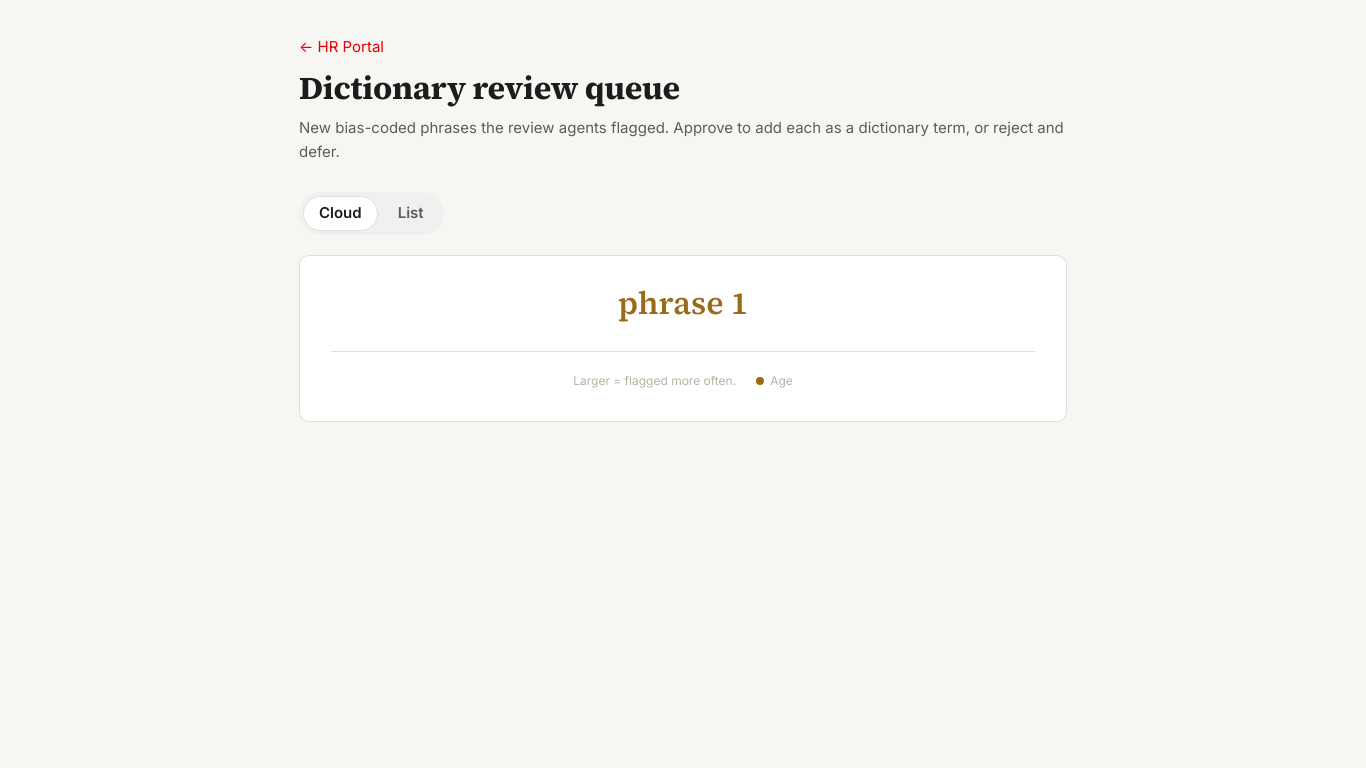
Test: HrDictionaryReview › opens the review modal from a row in the list view
Click the button "List". click: [411, 214]
box: [382,196,440,231]
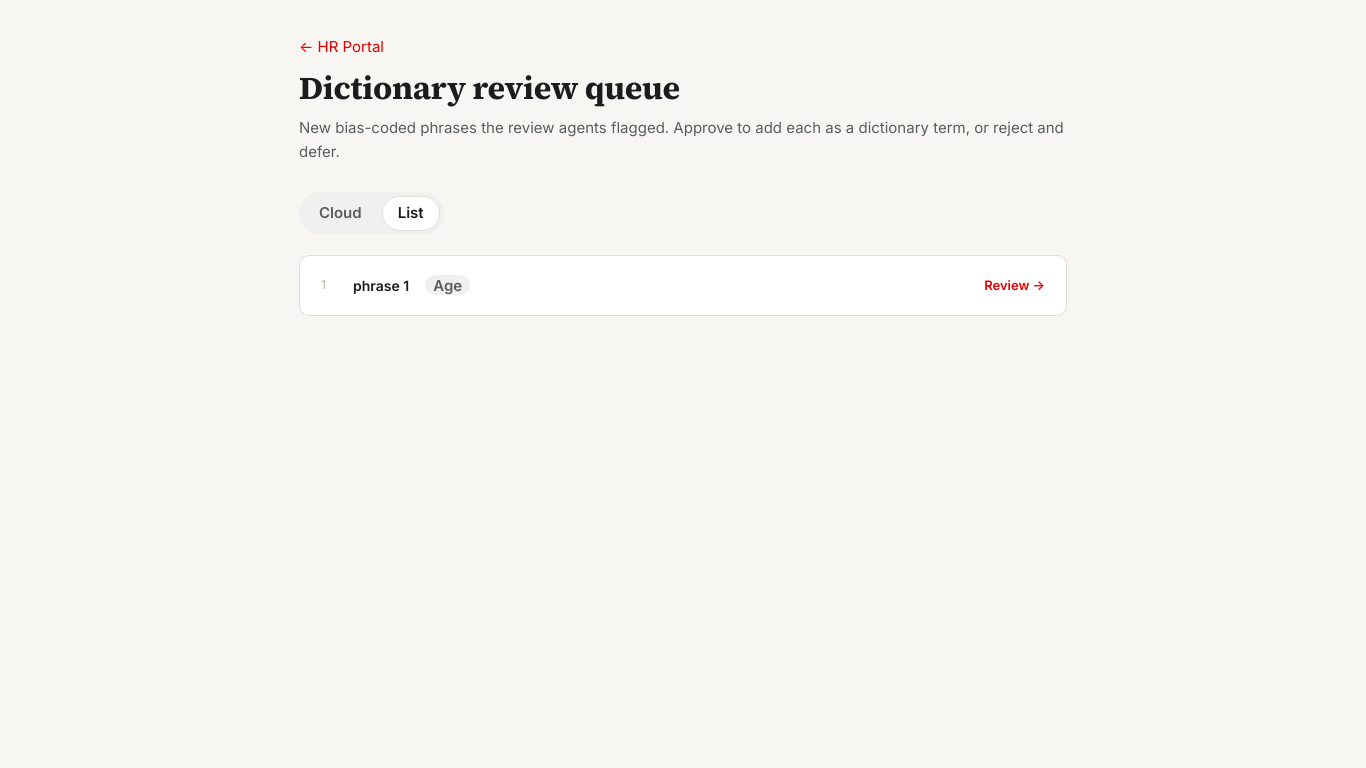
Click the button "Review →". click: [1015, 285]
box: [984,276,1045,295]
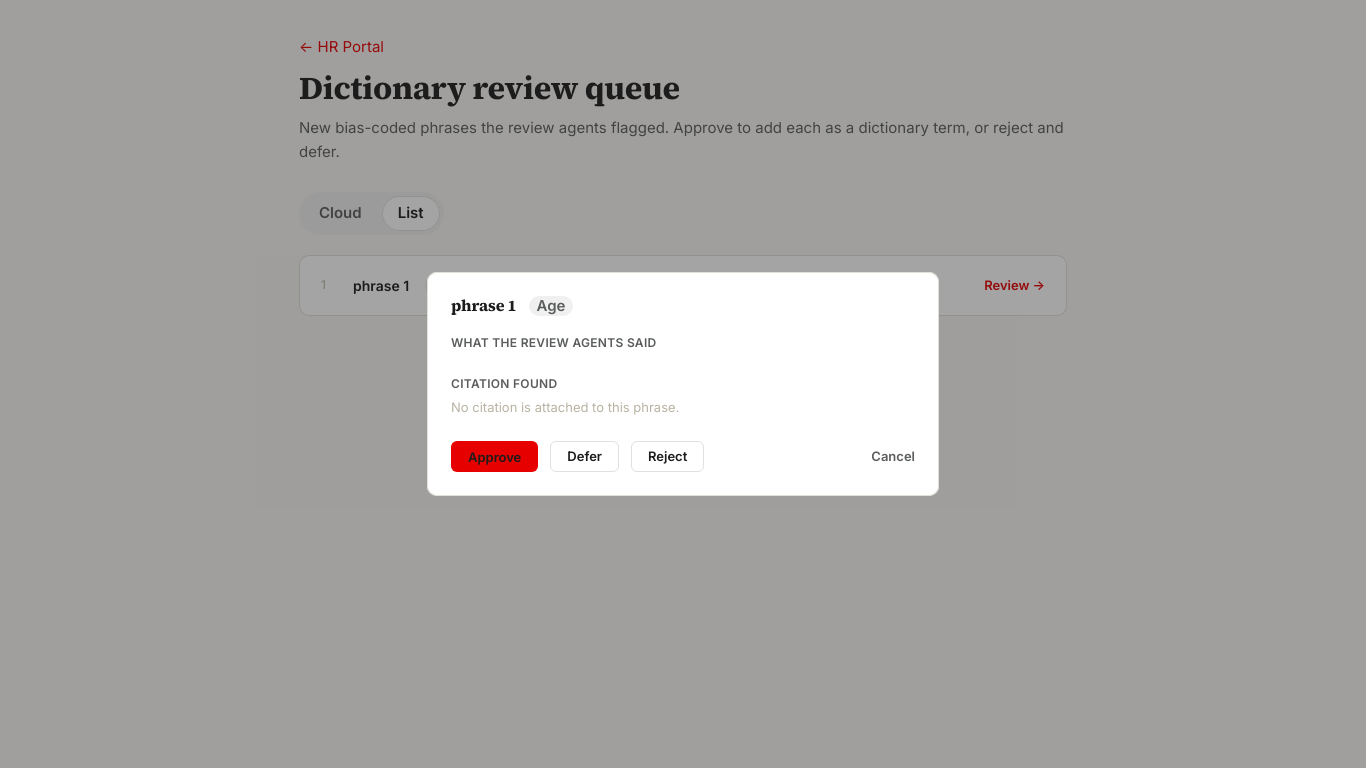
Expected: the heading "What the review agents said" is shown, [451,335,656,350]
